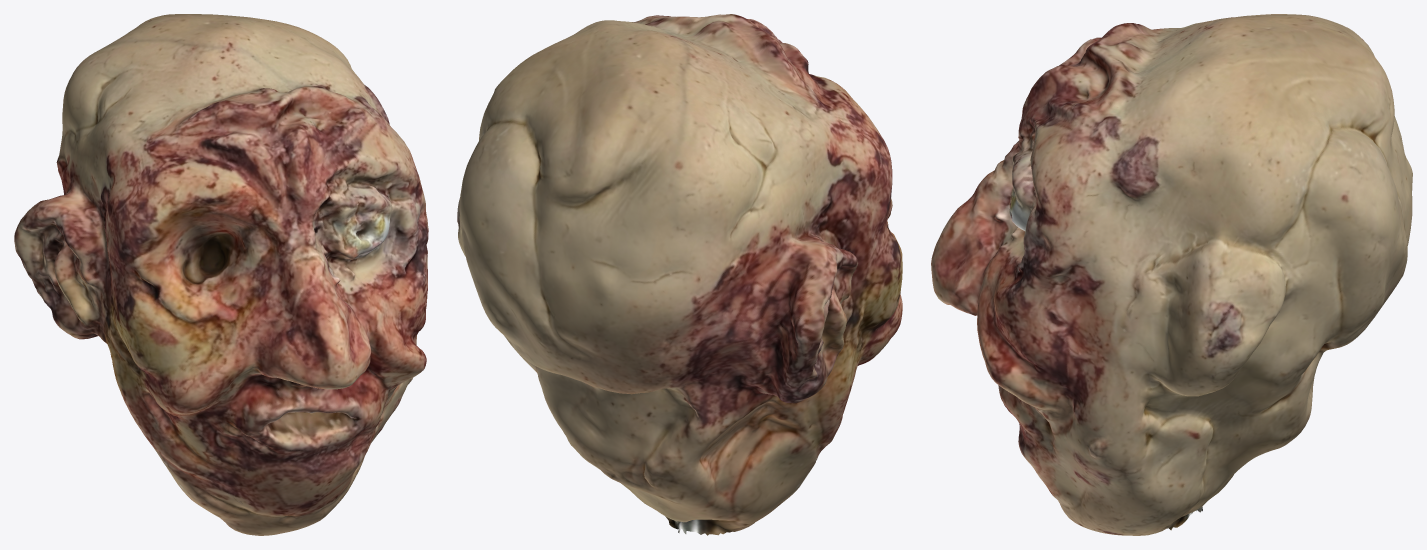
Rendered from frame2Scan_Full.fbx.
The picture shows the model from 3 angles, left to right: view 1: azimuth 30°, elevation 25°; view 2: azimuth 150°, elevation 25°; view 3: azimuth 270°, elevation 25°; orthographic projection. The views are drawn at different scales.
Parts seen in each view (by area): view 1: 3DModel; view 2: 3DModel; view 3: 3DModel.
Part boxes in pixels (x1,y1,x2,y2): 3DModel: (14, 14, 428, 535); 3DModel: (457, 14, 902, 535); 3DModel: (931, 14, 1412, 535).
Size of the model in its own units: 15.26 by 19.03 by 16.32.
Materials: 1 (1 with a texture image).
